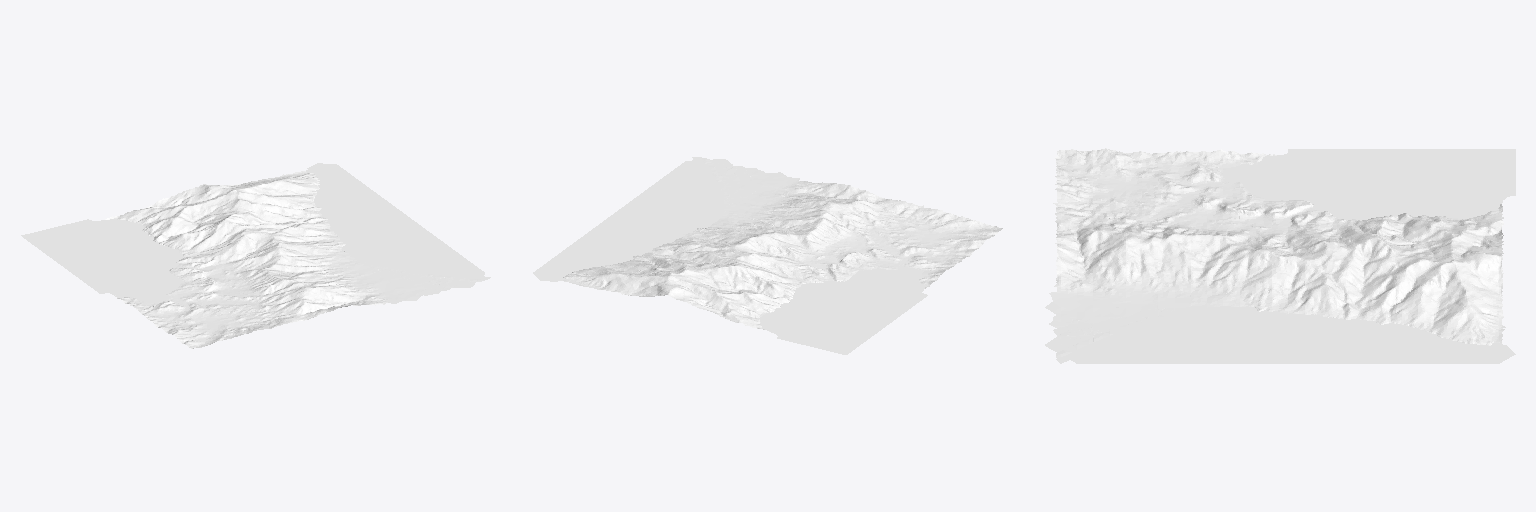
robot.urdf — corsica:
<?xml version="1.0" ?>
<robot name="corsica">
  <link concave="yes" name="baseLink">
    <visual>
      <origin rpy="0 0 0 " xyz="0 0 0"/>
      <geometry>
          <mesh filename="corsica.obj" scale="1 1 1"/>
      </geometry>
       <material name="white">
        <color rgba="1 1 1 1"/>
      </material>
    </visual>
    <collision>
      <origin rpy="0 0 0" xyz="0 0 0"/>
      <geometry>
          <mesh filename="corsica.obj" scale="1 1 1"/>
      </geometry>
    </collision>
  </link>
</robot>

--- Render facts (derived) ---
Views: 3 orthographic renders of the robot side by side, from view 1: azimuth 30°, elevation 25°; view 2: azimuth 150°, elevation 25°; view 3: azimuth 270°, elevation 25°.
Model corsica with 1 links and 0 joints (none), rooted at baseLink, posed every joint at zero.
Visible links, largest first — view 1: baseLink; view 2: baseLink; view 3: baseLink.
Boxes of the visible links, x1=… form: baseLink: x1=21, y1=163, x2=490, y2=348; baseLink: x1=533, y1=157, x2=1002, y2=354; baseLink: x1=1045, y1=148, x2=1515, y2=363.
Size in the robot's own frame: 28129 by 26064 by 1281 metres.
Meshes: 1 distinct files referenced, 1 mesh visuals loaded (1 OBJ).